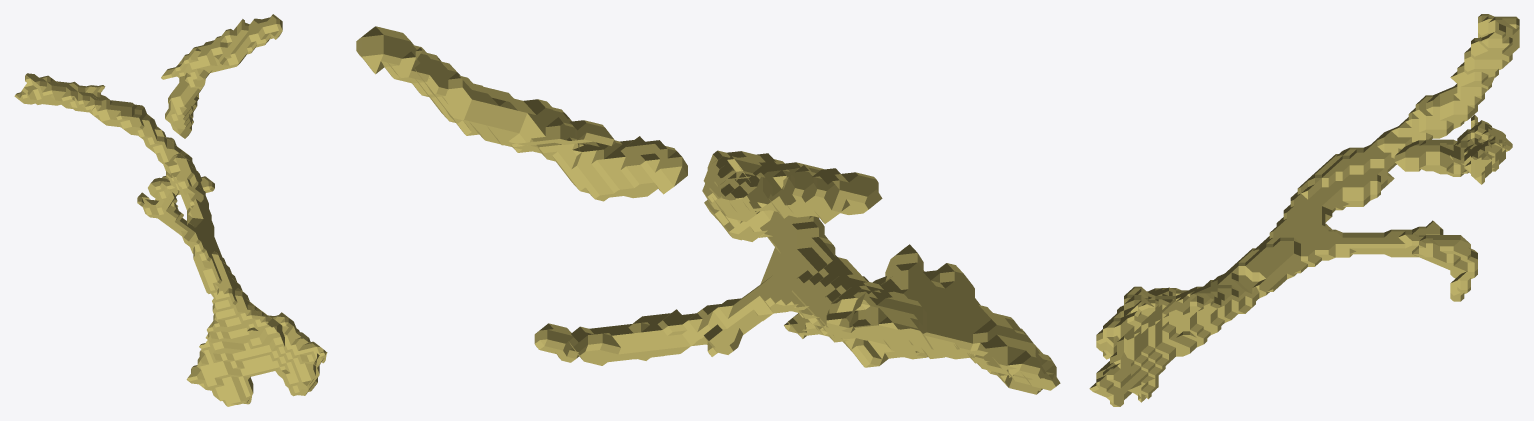
The model's file is region_0163_Vas__vascular_lacuna_of_area_postrema_.glb.
3 views of the same model, side by side, from view 1: azimuth 30°, elevation 25°; view 2: azimuth 150°, elevation 25°; view 3: azimuth 270°, elevation 25° (orthographic). The views are drawn at different scales.
Visible parts, largest first — view 1: world; view 2: world; view 3: world.
Boxes of the visible parts, bbox=[...] form: world: bbox=[14, 14, 327, 406]; world: bbox=[356, 26, 1060, 394]; world: bbox=[1089, 14, 1519, 406].
Size of the model in its own units: 0.456 by 0.408 by 0.496.
